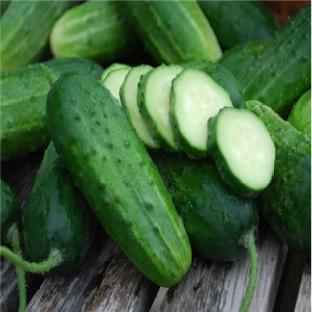Cucumber: (47, 73, 191, 285), (152, 152, 258, 260), (247, 101, 311, 254), (24, 143, 95, 274), (242, 5, 311, 116), (207, 108, 275, 196), (171, 68, 232, 158), (50, 2, 133, 62), (138, 65, 183, 150), (120, 65, 159, 148), (186, 62, 245, 108), (220, 40, 269, 84), (0, 180, 22, 244), (44, 59, 102, 79), (102, 67, 131, 106), (288, 90, 311, 137), (101, 63, 128, 81)
